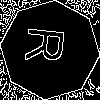R: (25, 25, 74, 66)
